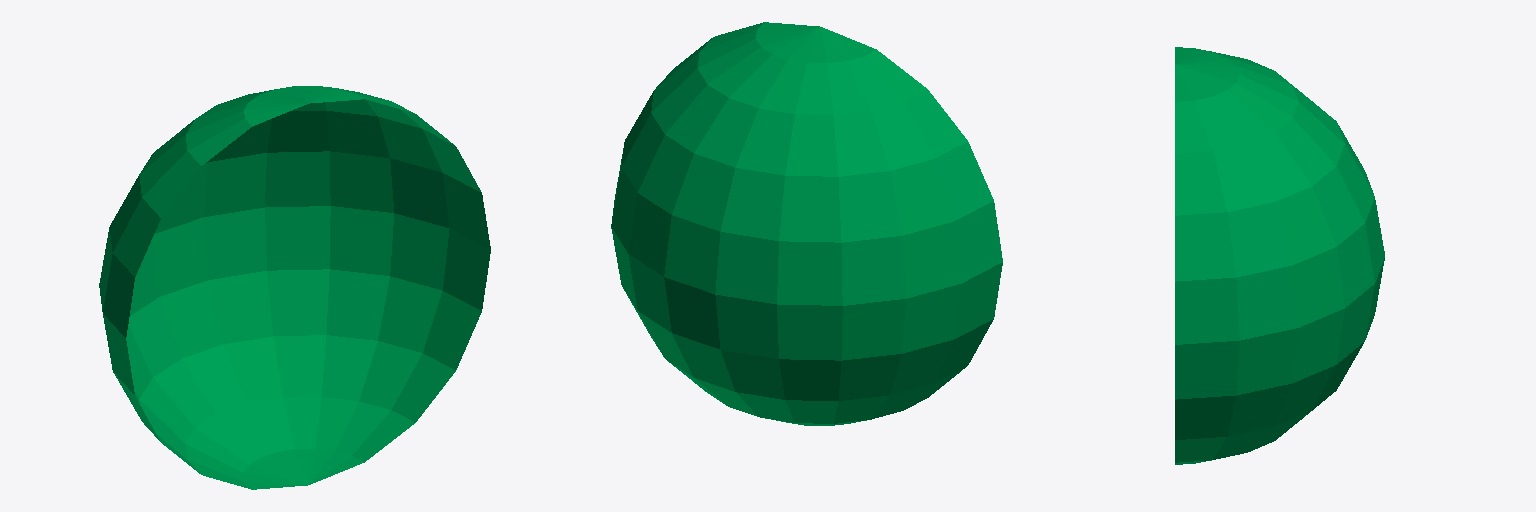
The model's file is map1.obj.
3 views of the same model, side by side, from view 1: azimuth 30°, elevation 25°; view 2: azimuth 150°, elevation 25°; view 3: azimuth 270°, elevation 25° (orthographic).
Parts seen in each view (by area): view 1: Sphere; view 2: Sphere; view 3: Sphere.
Boxes of the visible parts, x1,y1,x2,y2 form: Sphere: [99, 86, 490, 489]; Sphere: [611, 22, 1002, 425]; Sphere: [1175, 47, 1384, 464].
Bounding box in the file's own units: 2 × 2 × 1.